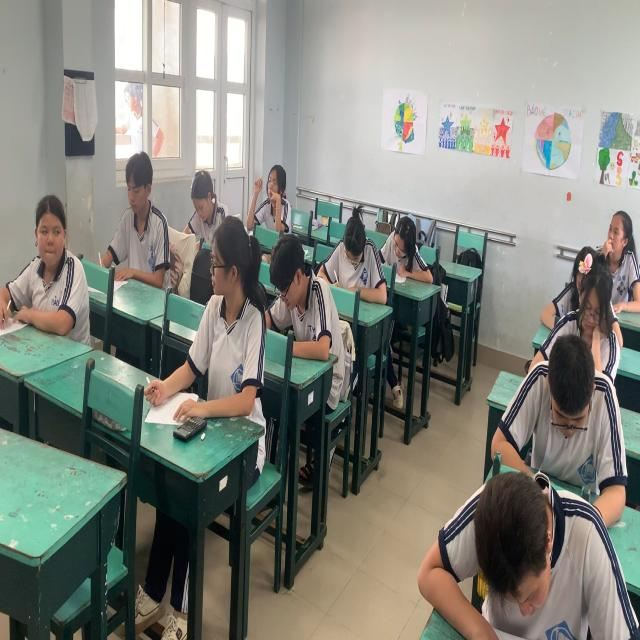cheating: (13, 192, 88, 344), (204, 219, 264, 409)
not_cheating: (465, 485, 571, 627), (531, 337, 602, 468), (109, 146, 170, 288), (262, 230, 332, 344), (322, 188, 380, 284), (567, 244, 616, 337), (381, 195, 420, 282), (252, 160, 295, 229), (190, 160, 227, 240), (595, 209, 632, 257)
